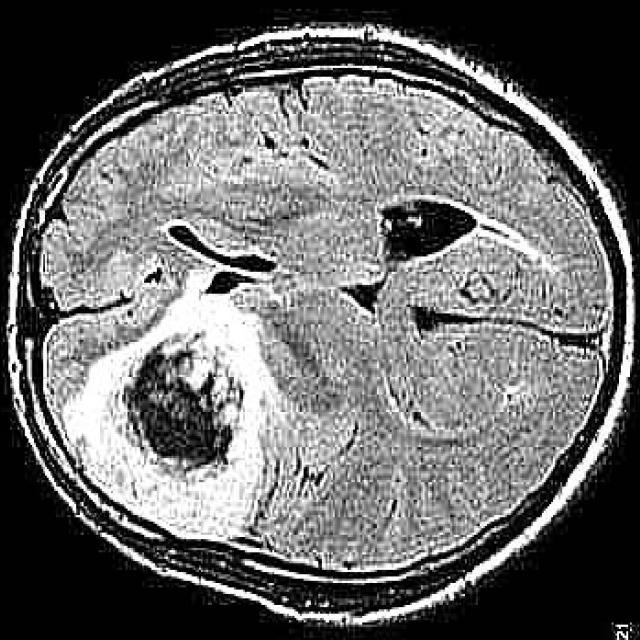tumor: (77, 266, 272, 537)
